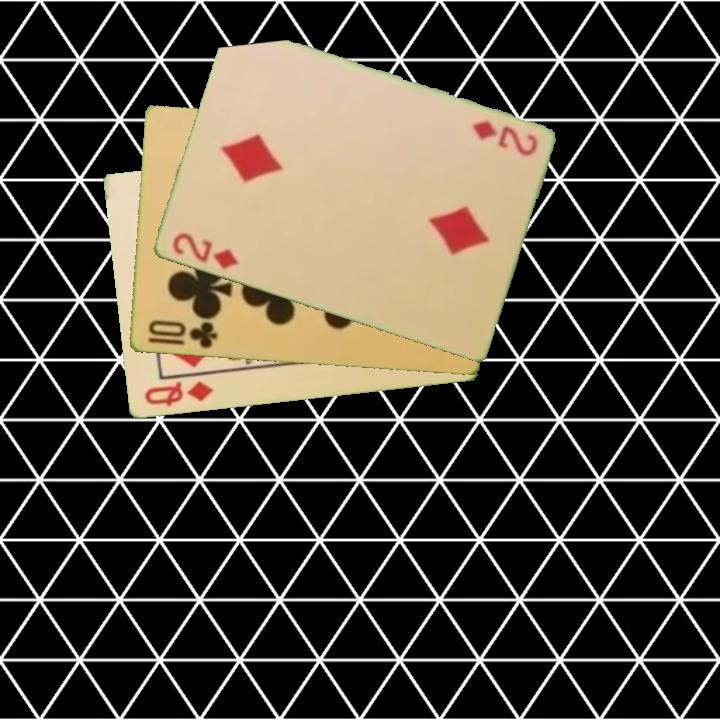10c: (144, 317, 220, 352)
2d: (168, 230, 241, 272), (468, 117, 541, 159)
Qd: (140, 378, 216, 410)
